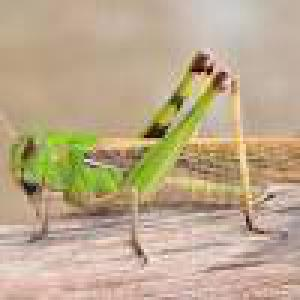locust: (4, 64, 298, 265)
